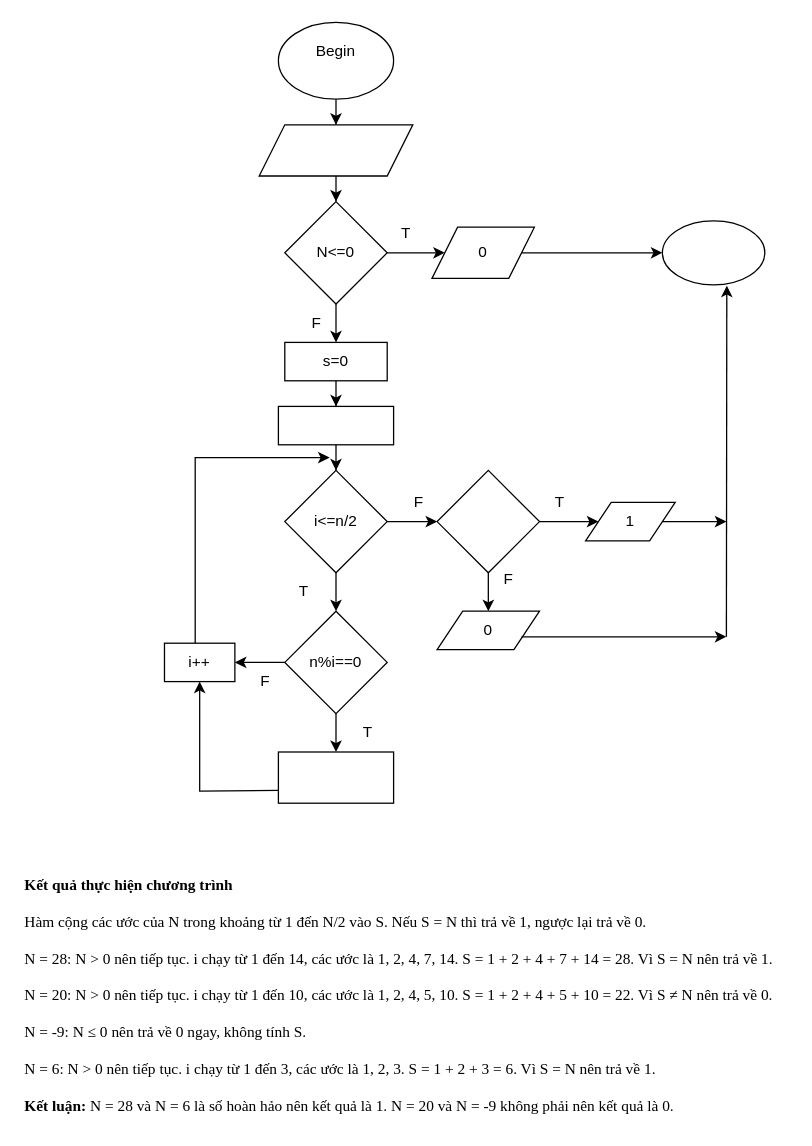
The diagram is 812 pixels wide and 1146 high, and some of its shapes have lost their labels. The shapes that lost their labels are listed below. From the top down, each one's centre as x and y in pixels, then its label:
the point at 335,150: Nhập N
the point at 713,252: End
the point at 335,425: i=1
the point at 488,521: S==n
the point at 335,777: s+=i
